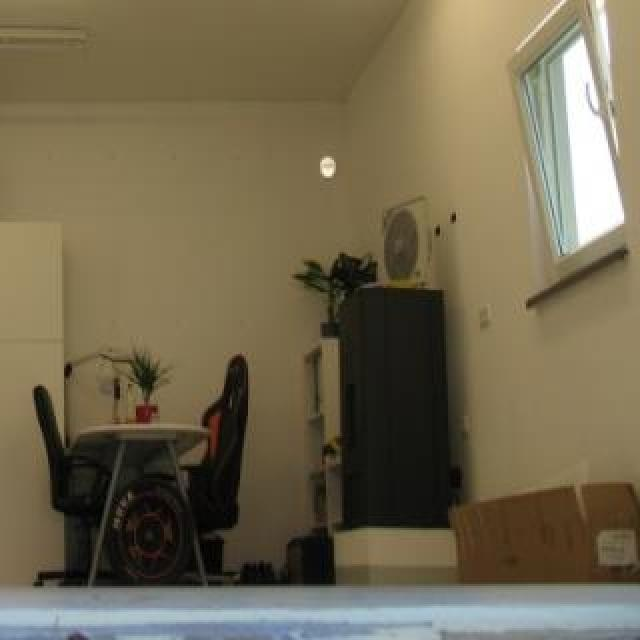fluorescent tube: (310, 0, 418, 8)
